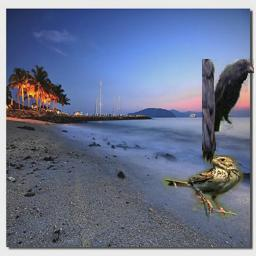Crow: (202, 59, 254, 164)
Sparrow: (162, 155, 246, 219)
